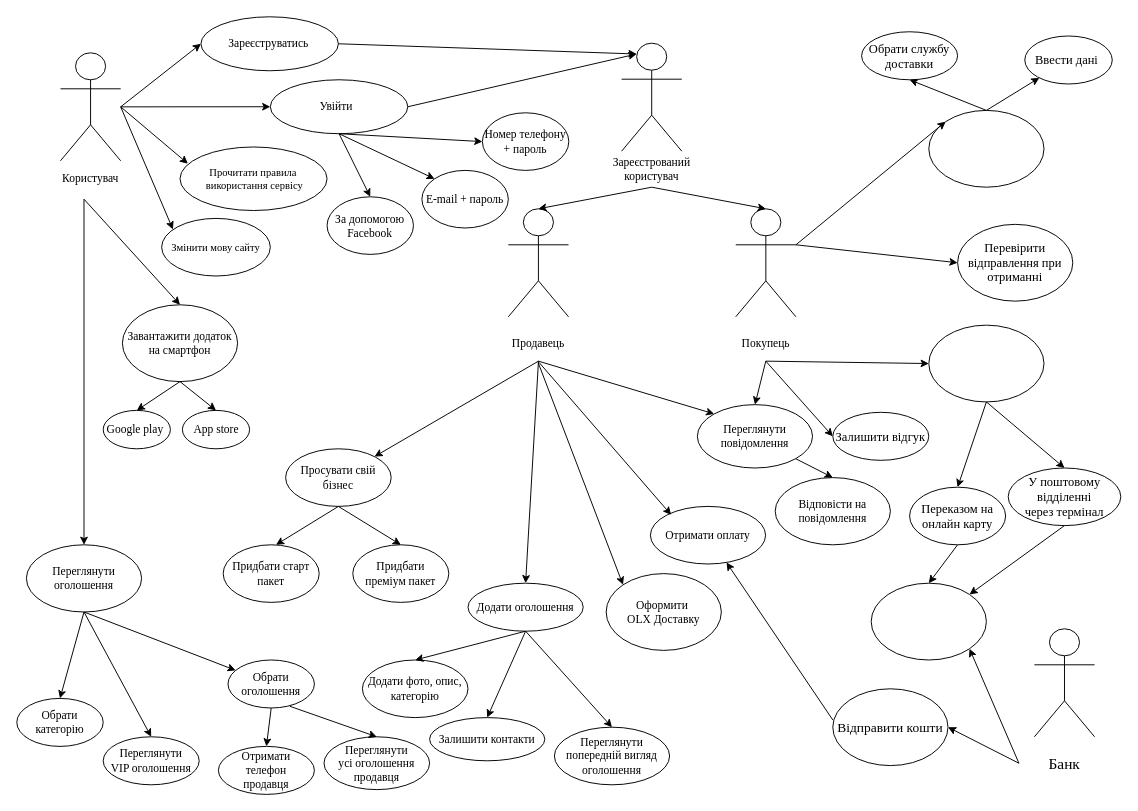
The diagram is 1138 pixels wide and 811 high, and some of its shapes have lost their labels. Here are the shapes that lost their labels. From the top down, the centre of each, then its label:
At (986,148): "Оформити замовлення".
At (986,363): "Оплатити товар".
At (928,621): "Отримати кошти".
